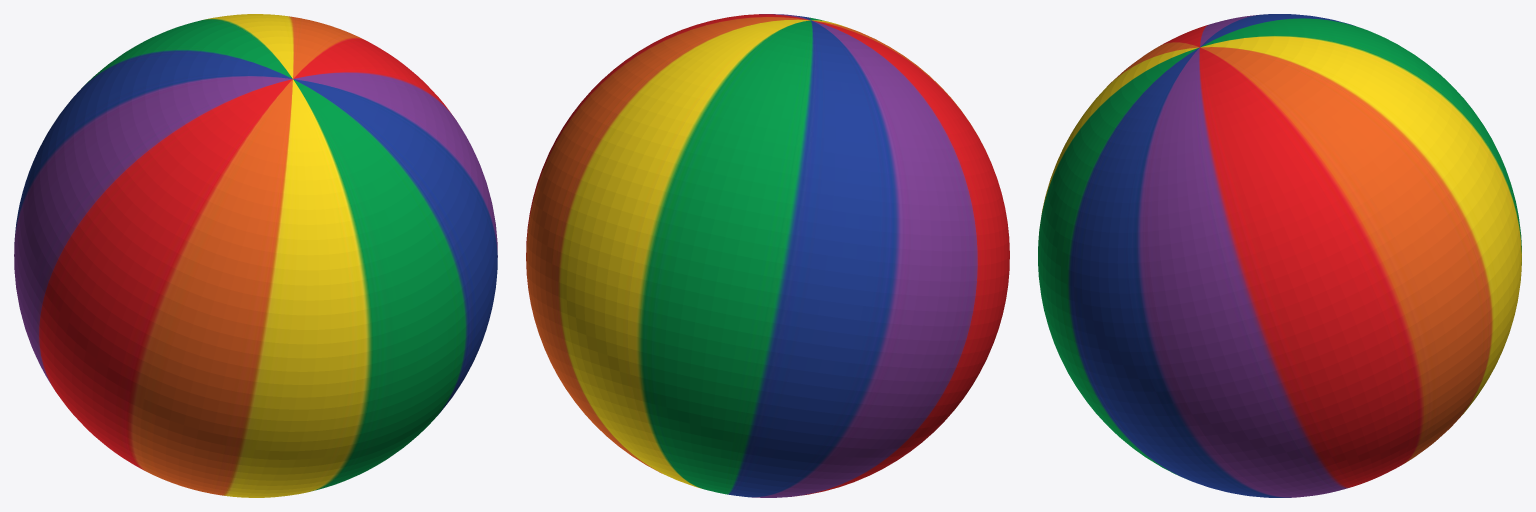
File: mdlPelota.obj
3 views of the same model, side by side, from view 1: azimuth 30°, elevation 25°; view 2: azimuth 150°, elevation 25°; view 3: azimuth 270°, elevation 25° (orthographic).
Visible parts, largest first — view 1: mdlPelota; view 2: mdlPelota; view 3: mdlPelota.
Boxes of the visible parts, box(x1,y1,x2,y2) form: mdlPelota: box(14, 14, 497, 497); mdlPelota: box(526, 14, 1009, 497); mdlPelota: box(1038, 14, 1521, 497).
Bounding box in the file's own units: 2 × 2 × 2.
Materials: 1 (1 with a texture image).
